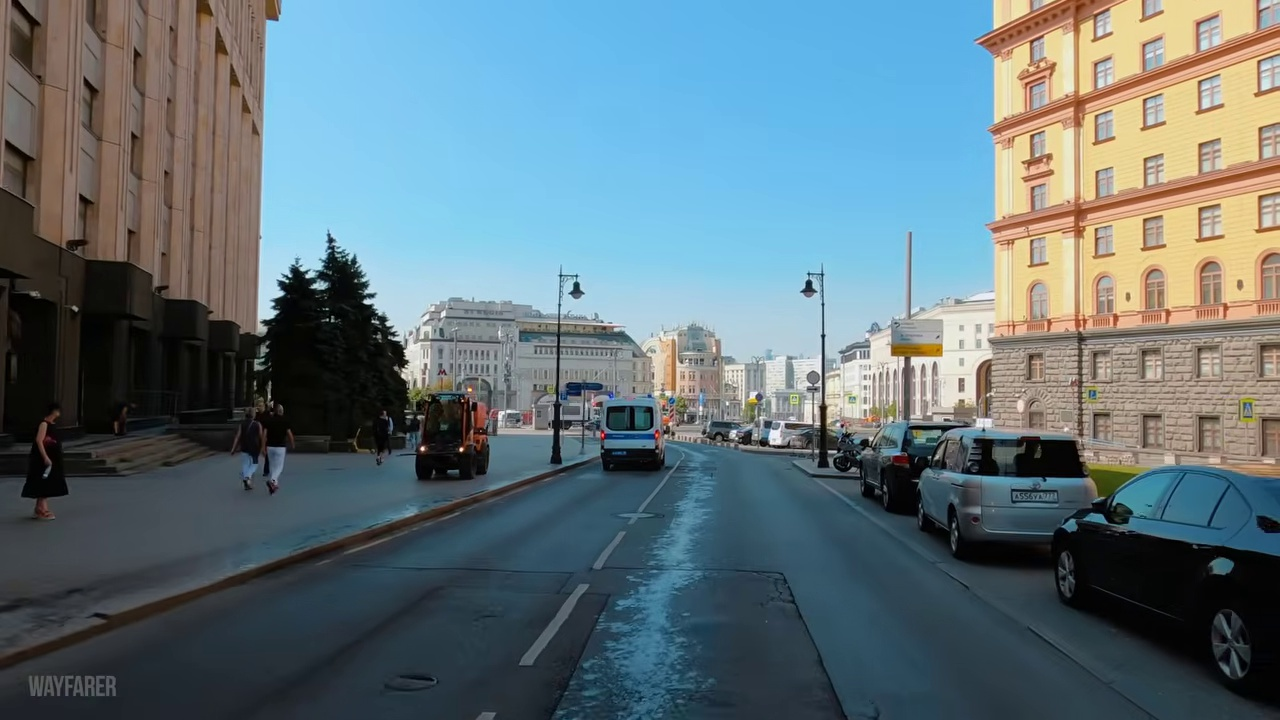apagada: (796, 276, 822, 303), (561, 279, 587, 302)
